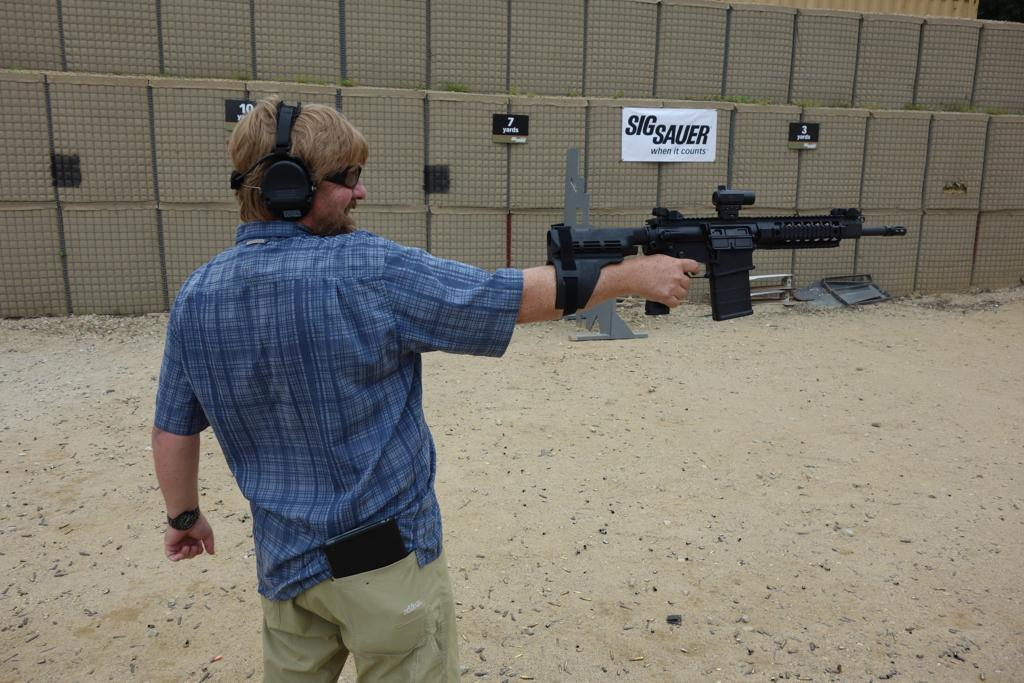face: (289, 139, 371, 231)
